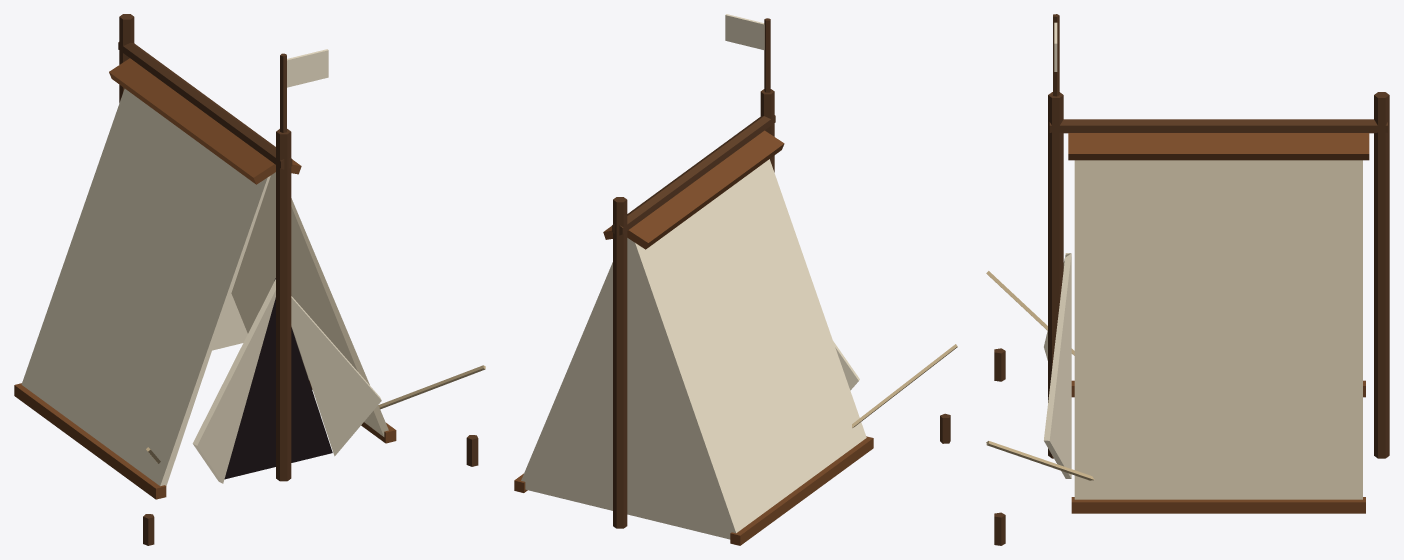
The model's file is camp_tent.glb.
The picture shows the model from 3 angles, left to right: view 1: azimuth 30°, elevation 25°; view 2: azimuth 150°, elevation 25°; view 3: azimuth 270°, elevation 25°; orthographic projection. The views are drawn at different scales.
Parts seen in each view (by area): view 1: cloth; view 2: cloth; view 3: cloth.
Part boxes in pixels (left/top/right/bottom): cloth: left=14, top=14, right=485, bottom=545; cloth: left=514, top=14, right=957, bottom=545; cloth: left=986, top=14, right=1389, bottom=545.
Size of the model in its own units: 1.3 by 1.57 by 1.29.
